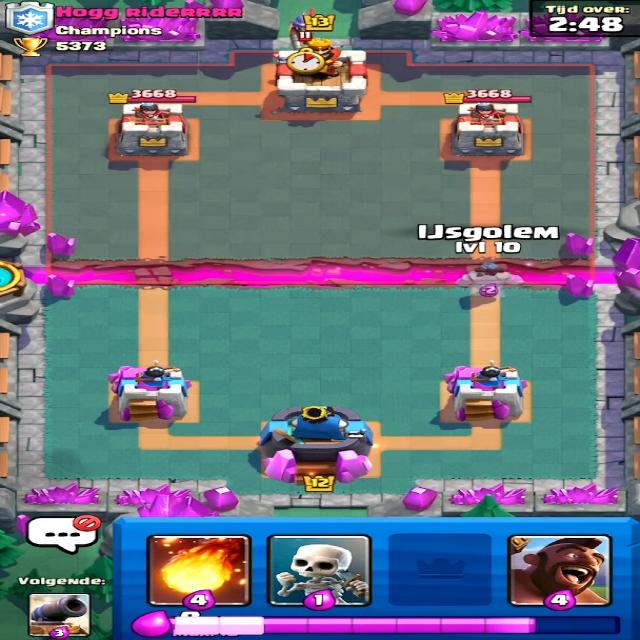Fireball_Card: (148, 534, 252, 609)
Hog_Rider_Card: (507, 536, 607, 606)
Skeleton_Card: (270, 532, 370, 604)
